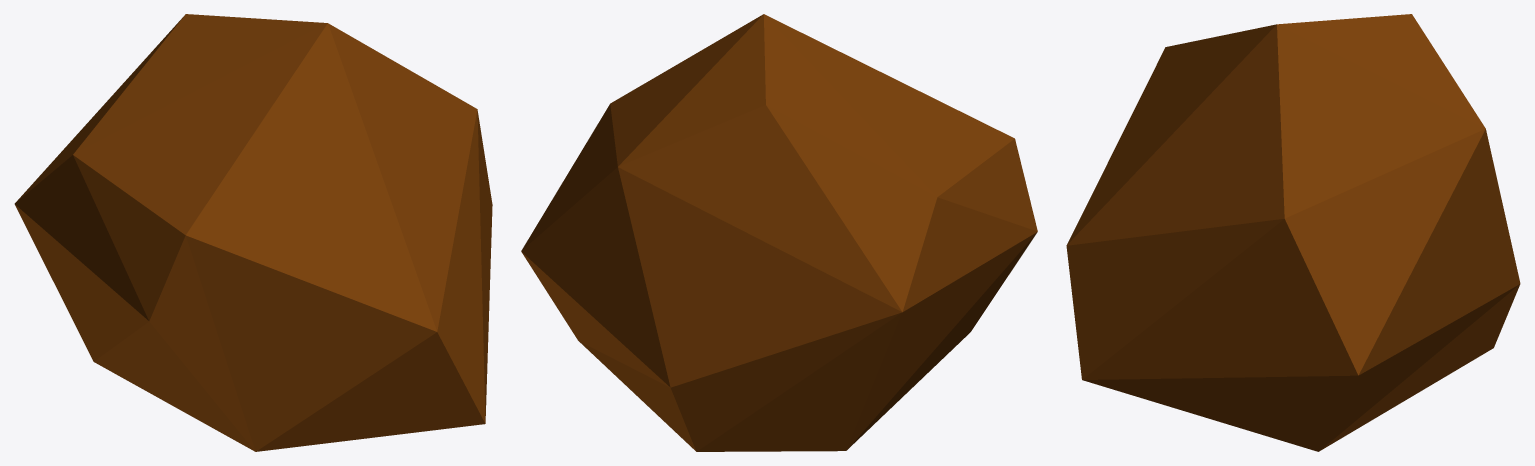
The model's file is Rock_02.fbx.
3 renders of one model, left to right at view 1: azimuth 30°, elevation 25°; view 2: azimuth 150°, elevation 25°; view 3: azimuth 270°, elevation 25°, orthographic. The views are drawn at different scales.
Parts seen in each view (by area): view 1: Rock_02; view 2: Rock_02; view 3: Rock_02.
Boxes of the visible parts, left/top/right/bottom form: Rock_02: left=14, top=14, right=492, bottom=451; Rock_02: left=521, top=14, right=1037, bottom=451; Rock_02: left=1066, top=14, right=1520, bottom=451.
Size of the model in its own units: 1302 by 1027 by 1214.
